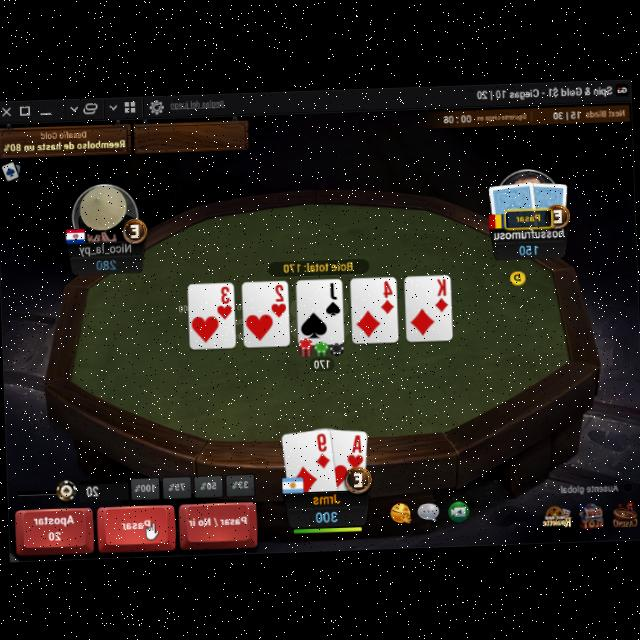2h: (269, 280, 287, 317)
3h: (214, 282, 234, 319)
4d: (378, 278, 394, 315)
9d: (314, 428, 332, 468)
Ah: (344, 432, 364, 468)
Js: (322, 276, 342, 314)
Kd: (432, 276, 450, 314)
bet_text: (312, 353, 331, 367)
card_back: (488, 175, 538, 225), (527, 176, 569, 218)
dealer: (508, 266, 528, 284)
hero_active: (9, 495, 261, 554)
pot_text: (280, 256, 354, 270)
stack_text: (314, 504, 339, 522), (95, 254, 117, 269), (518, 238, 538, 253)
